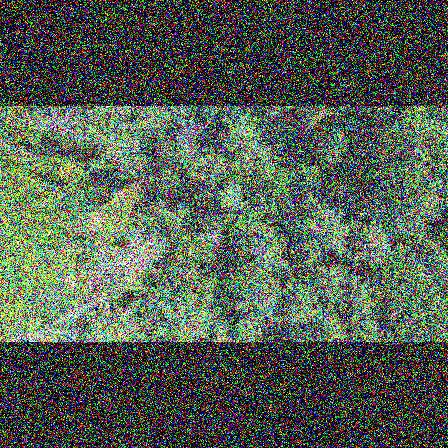Dead: (21, 106, 95, 146), (76, 242, 128, 289), (120, 222, 163, 277), (173, 114, 207, 162), (189, 220, 223, 245)
